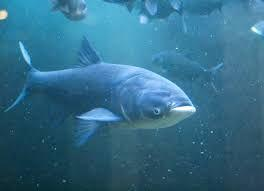Big Head Carp: (4, 38, 196, 152), (150, 47, 225, 99)
